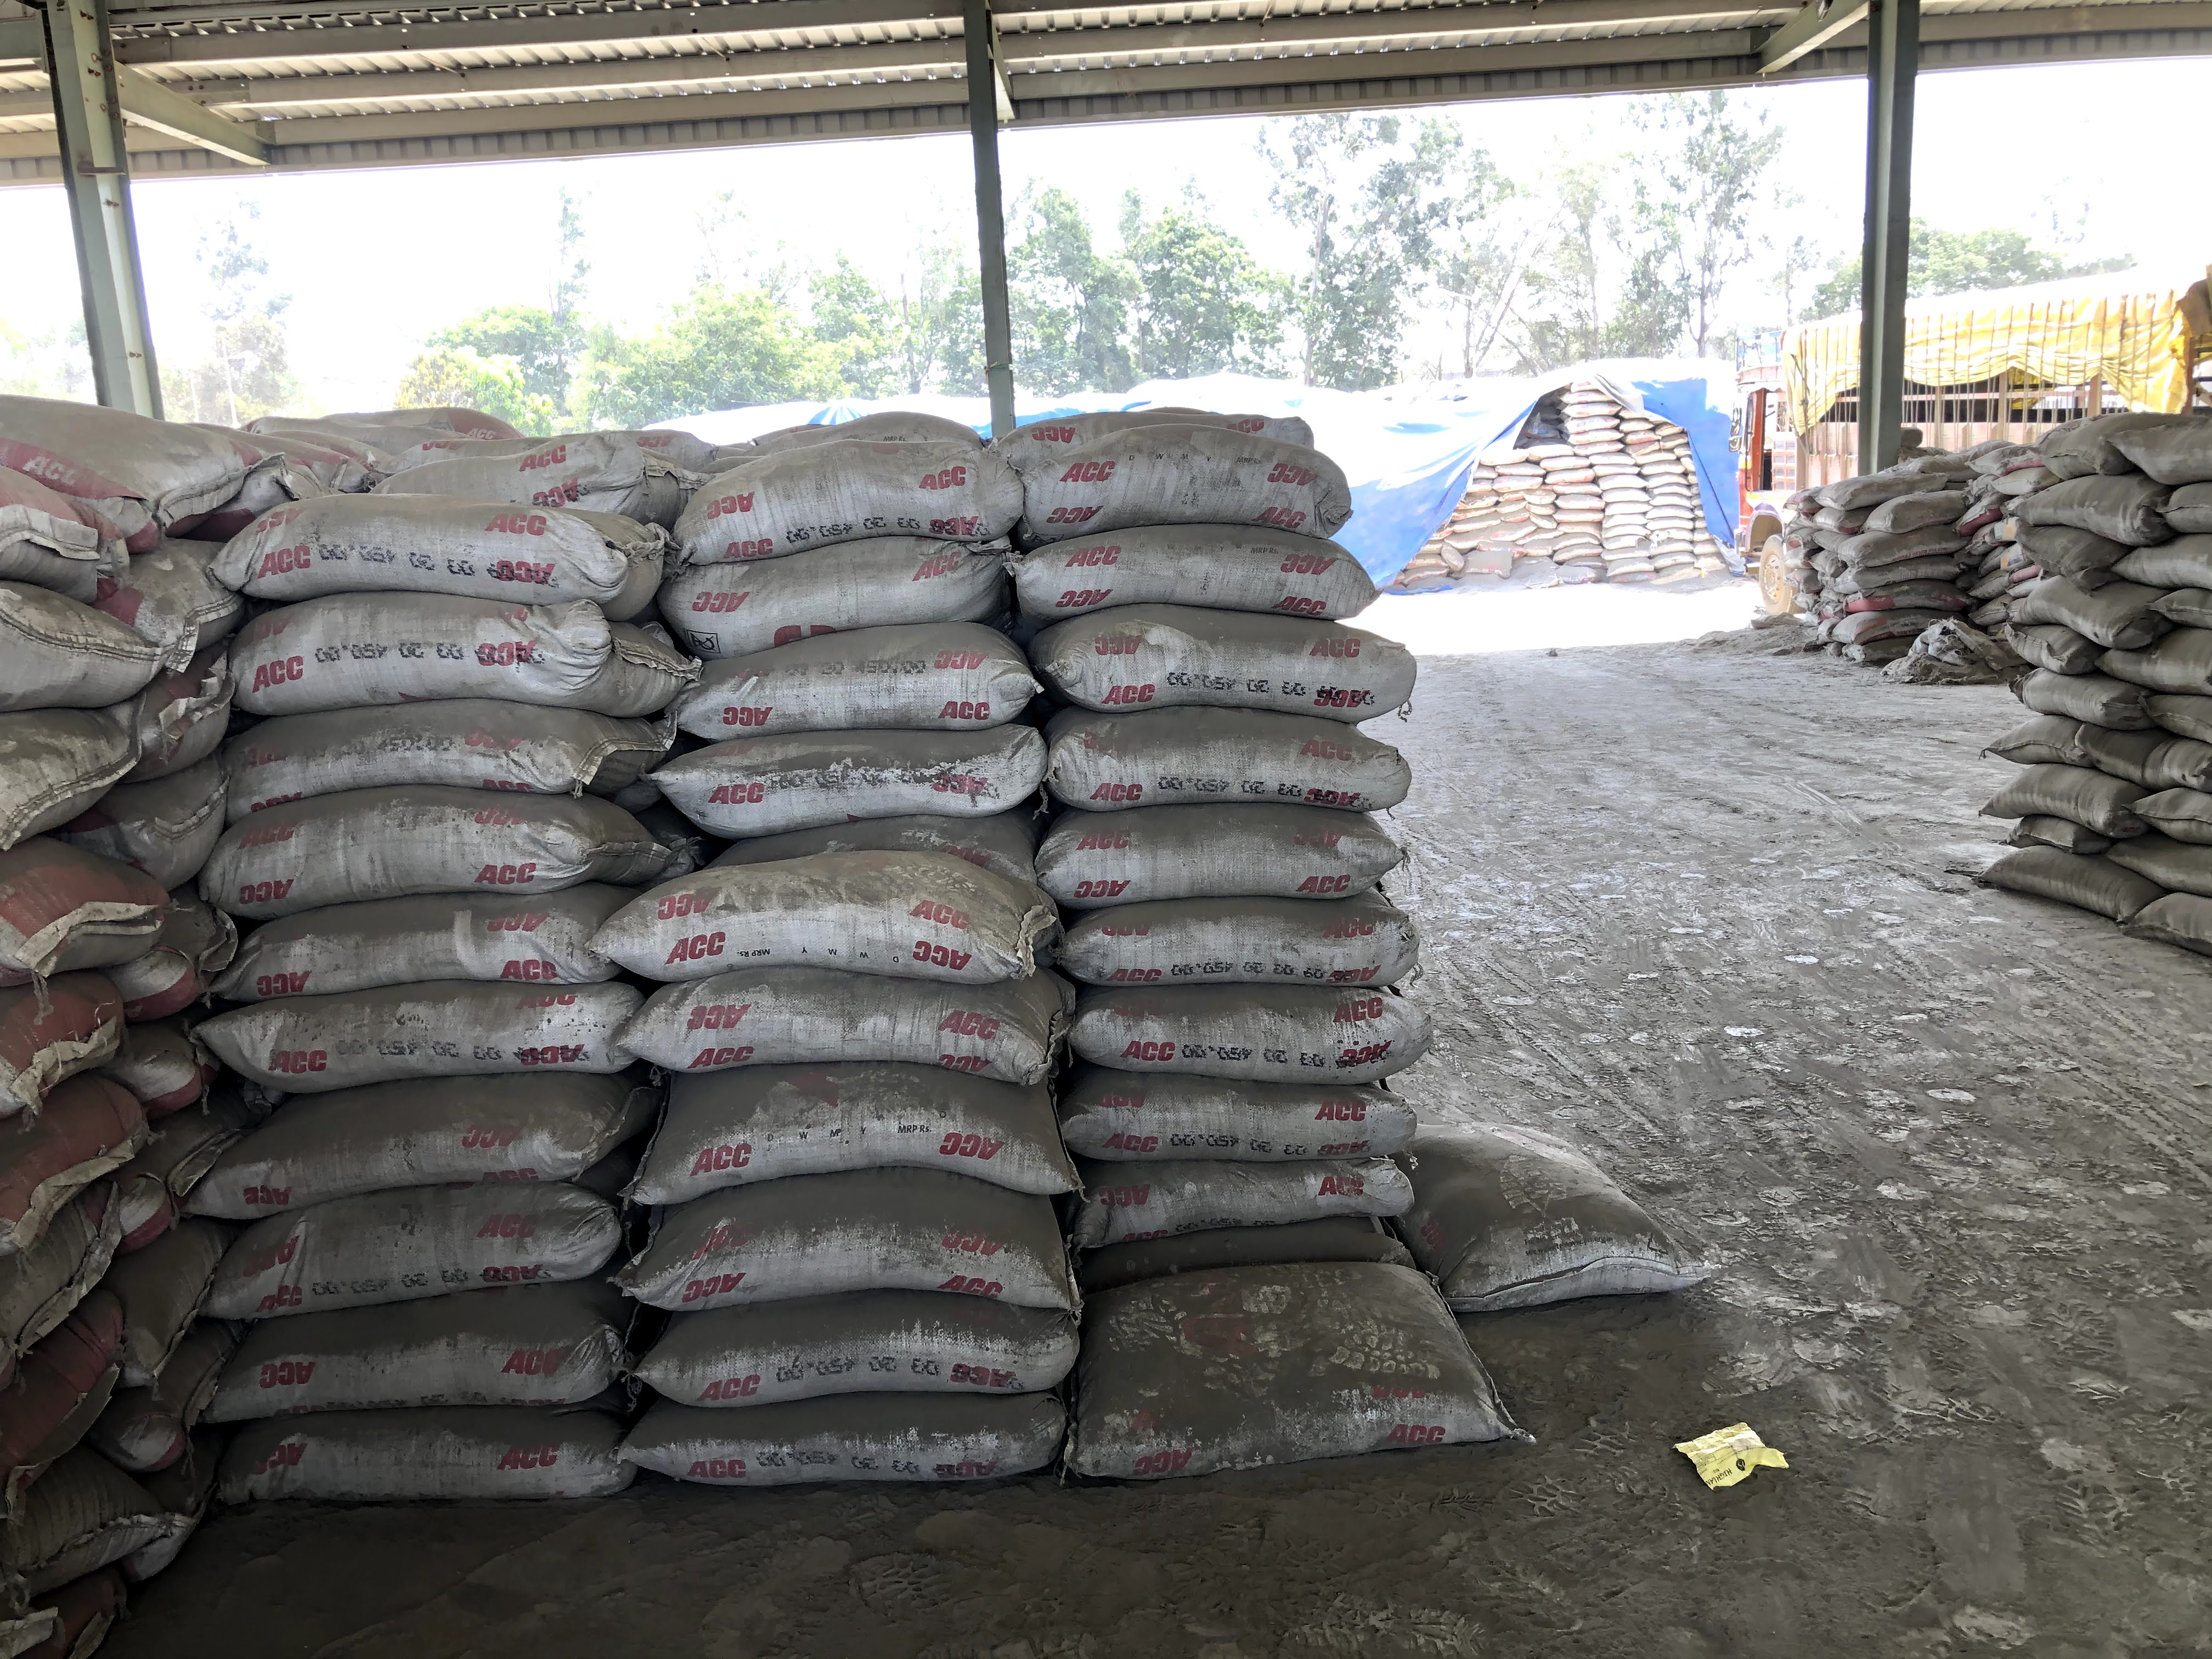cement bag: (1052, 1263, 1524, 1476), (615, 1053, 1082, 1206), (214, 586, 693, 721), (1383, 1115, 1733, 1300), (183, 1182, 622, 1314), (181, 782, 665, 901), (594, 863, 1045, 988), (219, 490, 655, 617), (617, 971, 1069, 1087), (183, 981, 657, 1093), (188, 1077, 646, 1192), (1024, 599, 1432, 728), (622, 1202, 1080, 1310), (1031, 699, 1414, 823), (206, 793, 671, 894), (206, 699, 650, 803), (1049, 974, 1439, 1091), (1028, 795, 1414, 911), (648, 725, 1055, 830), (1042, 1056, 1418, 1169), (660, 622, 1047, 732), (998, 427, 1357, 544), (1042, 889, 1430, 993), (998, 523, 1383, 627), (653, 441, 1031, 547), (664, 542, 1015, 647), (200, 901, 631, 985), (1047, 1161, 1420, 1244)
